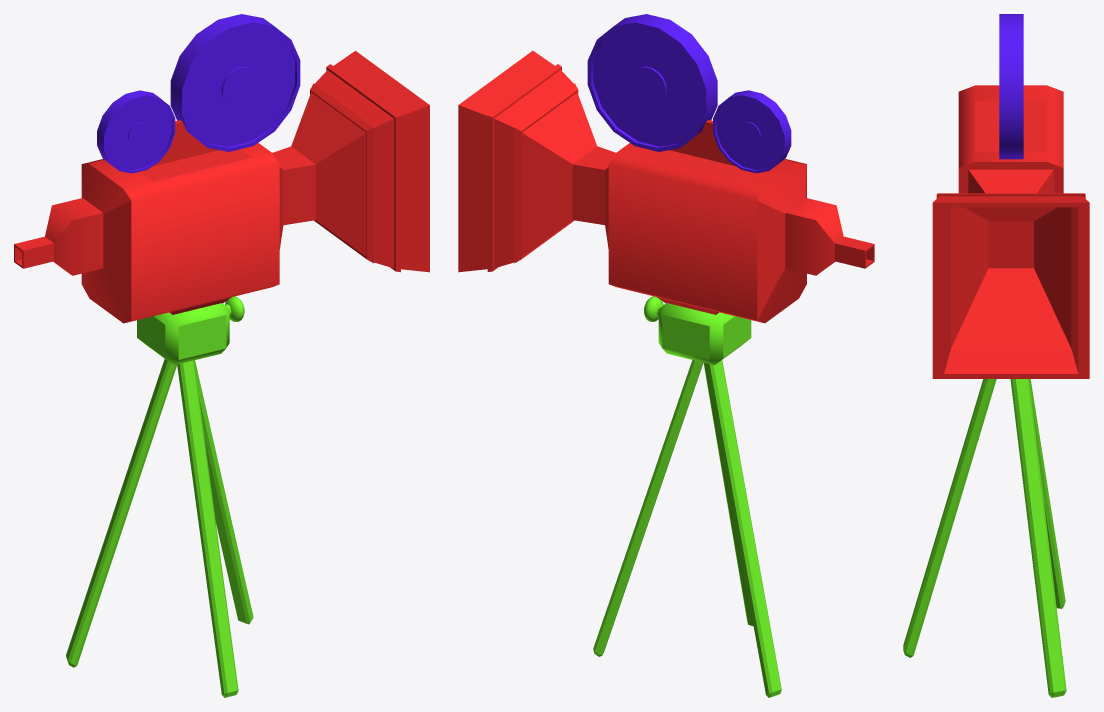
The model's file is Camera.FBX.
3 renders of one model, left to right at view 1: azimuth 30°, elevation 25°; view 2: azimuth 150°, elevation 25°; view 3: azimuth 270°, elevation 25°, orthographic. The views are drawn at different scales.
Visible parts, largest first — view 1: Camera, VideoRolls, Footing; view 2: Camera, VideoRolls, Footing; view 3: Camera, Footing, VideoRolls.
Part boxes in pixels (x1,y1,x2,y2): Camera: [14, 51, 429, 323]; VideoRolls: [97, 14, 300, 173]; Footing: [66, 296, 253, 697]; Camera: [458, 50, 874, 323]; VideoRolls: [587, 14, 791, 173]; Footing: [593, 296, 781, 697]; Camera: [932, 85, 1089, 378]; Footing: [903, 379, 1066, 697]; VideoRolls: [999, 14, 1023, 159].
Size of the model in its own units: 48.81 by 78.23 by 19.96.
